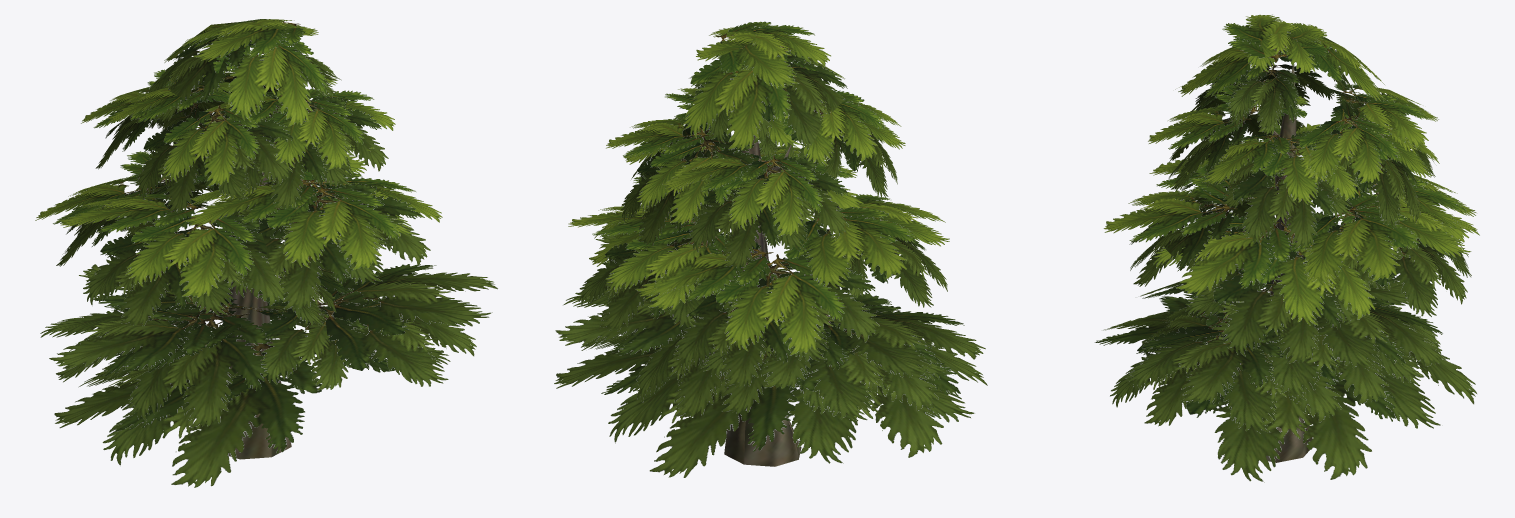
The model's file is obj_land2_dashu_03.FBX.
The picture shows the model from 3 angles, left to right: view 1: azimuth 30°, elevation 25°; view 2: azimuth 150°, elevation 25°; view 3: azimuth 270°, elevation 25°; orthographic projection.
Parts seen in each view (by area): view 1: obj_land2_dashu_03, obj_land2_dashu_04; view 2: obj_land2_dashu_03, obj_land2_dashu_04; view 3: obj_land2_dashu_03, obj_land2_dashu_04.
Part boxes in pixels (x1,y1,x2,y2): obj_land2_dashu_03: (35,19,497,487); obj_land2_dashu_04: (227,54,291,459); obj_land2_dashu_03: (554,21,987,477); obj_land2_dashu_04: (724,136,801,466); obj_land2_dashu_03: (1094,14,1479,482); obj_land2_dashu_04: (1266,64,1312,462).
Size of the model in its own units: 812 by 731 by 719.
